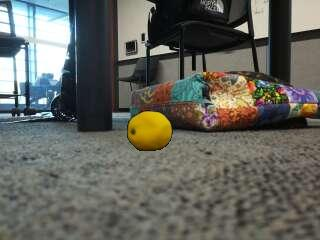lemon: (127, 112, 171, 151)
